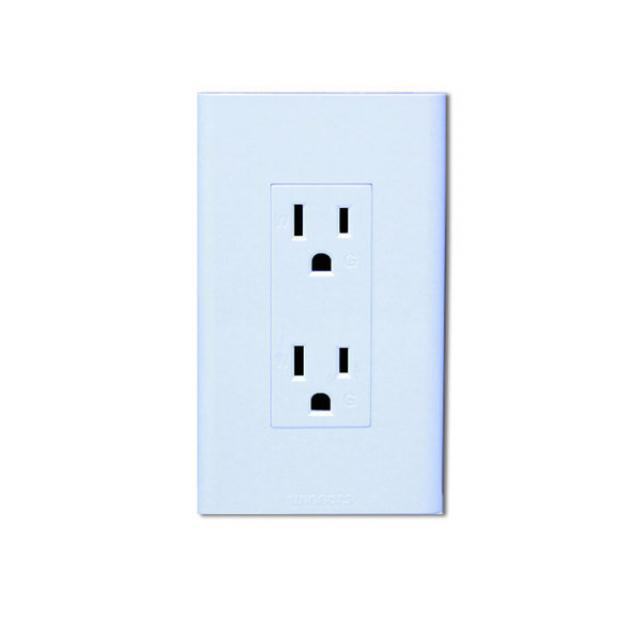typeb: (169, 56, 509, 556)
